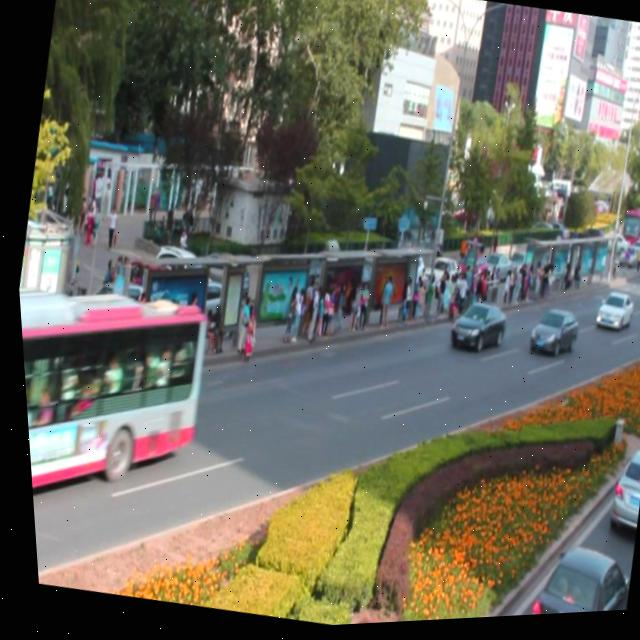car: (441, 299, 505, 363), (520, 307, 576, 367), (586, 292, 632, 340)
van: (15, 278, 213, 523)
